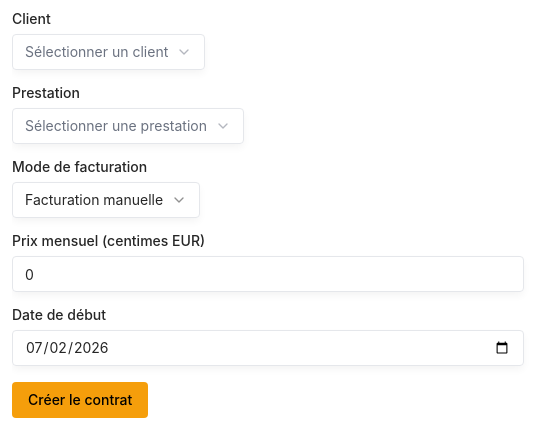
Test: ContractForm › AC3 — pre-fills price when prestation is selected
This screenshot has width=541, height=435.
Step 1. Click the dropdown with test id "contract-prestation-select" → (128, 126), box [12, 108, 244, 144]
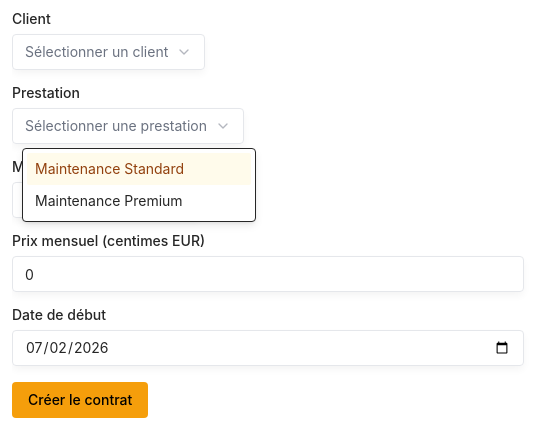
Now the option "Maintenance Standard" is shown
Step 2. Click the option "Maintenance Standard" → (139, 169), box [27, 153, 251, 185]
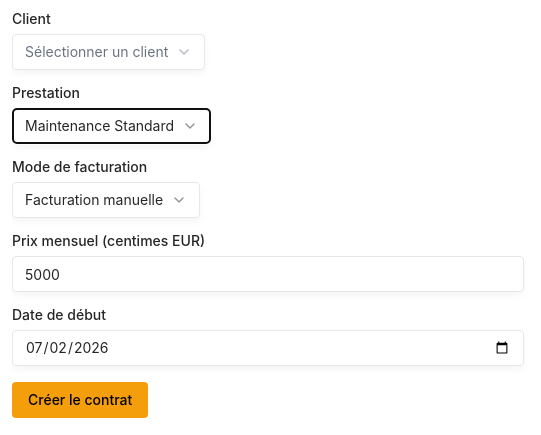
Now the number field with test id "contract-monthly-price-input" holds "5000", box [12, 256, 524, 292]
